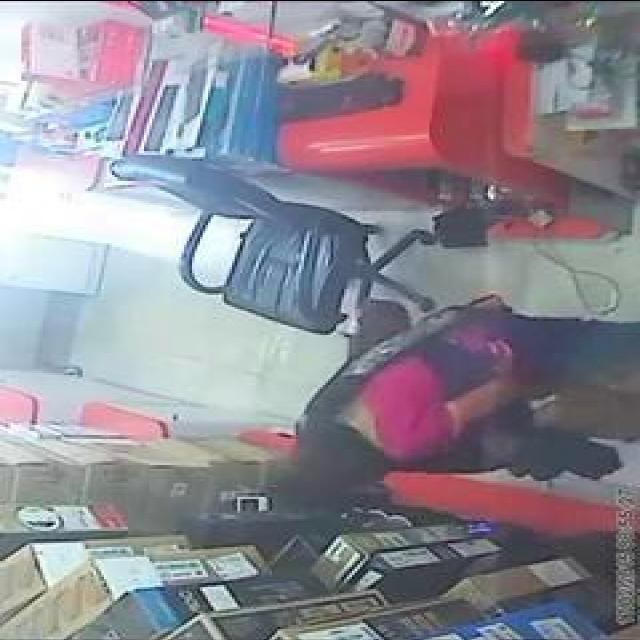Shoplifting: (259, 251, 640, 541)
